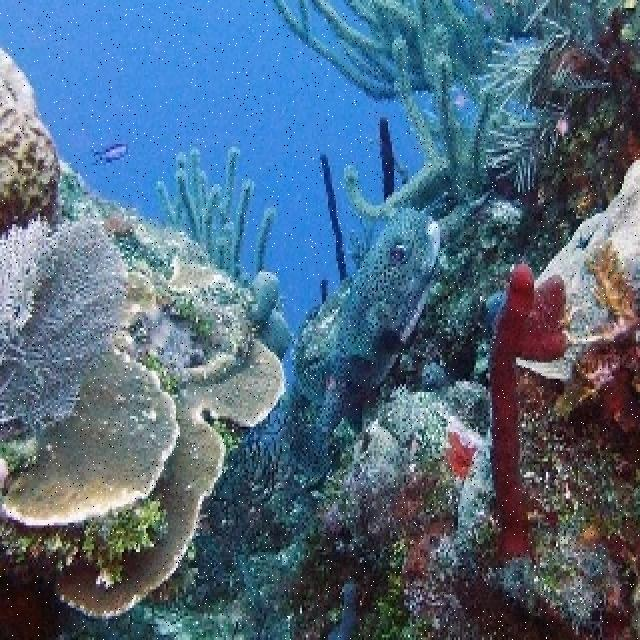fish: (317, 209, 442, 433), (93, 144, 128, 163)
reefs: (53, 340, 285, 616), (5, 273, 180, 527), (270, 0, 624, 102), (343, 36, 495, 238), (0, 217, 129, 436), (489, 260, 569, 557), (157, 145, 275, 290), (551, 242, 638, 434), (1, 45, 60, 234), (232, 275, 292, 360)
